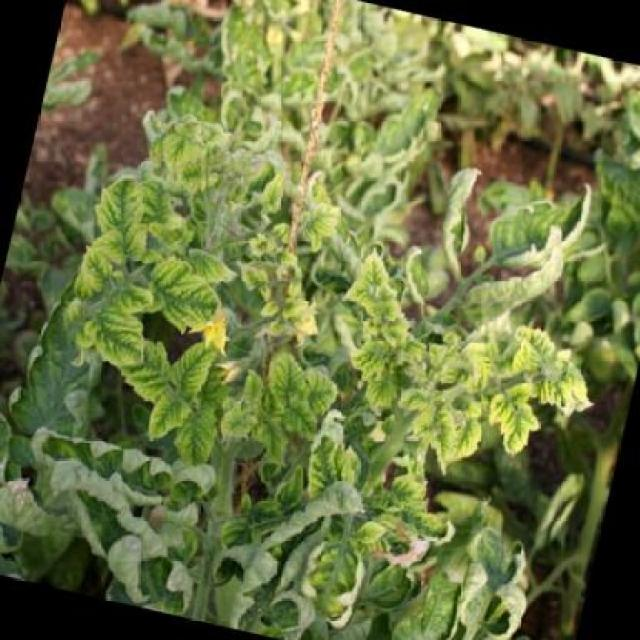Healthy Leaf: (491, 305, 607, 426), (64, 166, 158, 271), (130, 243, 232, 339), (326, 248, 422, 340), (418, 368, 494, 482), (476, 371, 552, 460), (82, 297, 165, 378), (268, 363, 342, 442), (161, 320, 219, 415), (168, 388, 222, 472), (261, 338, 316, 418), (301, 427, 361, 495), (138, 388, 191, 459), (351, 326, 395, 385)
